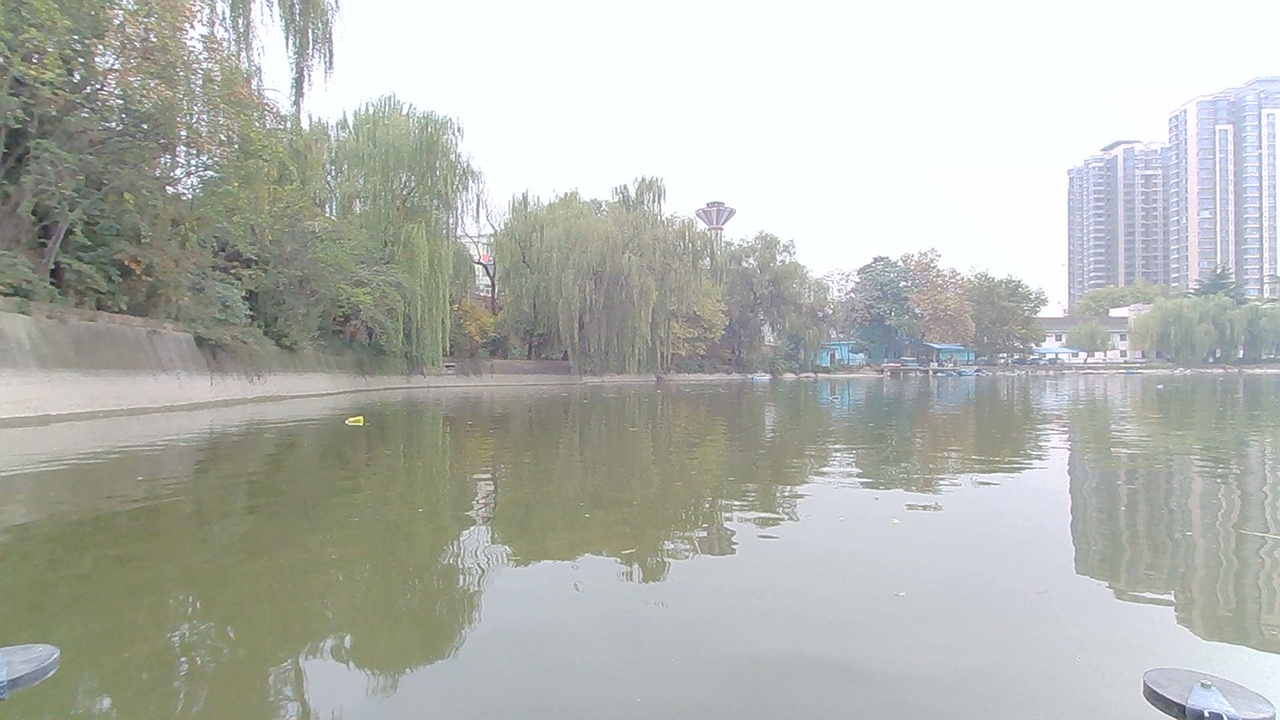bottle: (340, 411, 374, 434), (818, 389, 847, 404)
